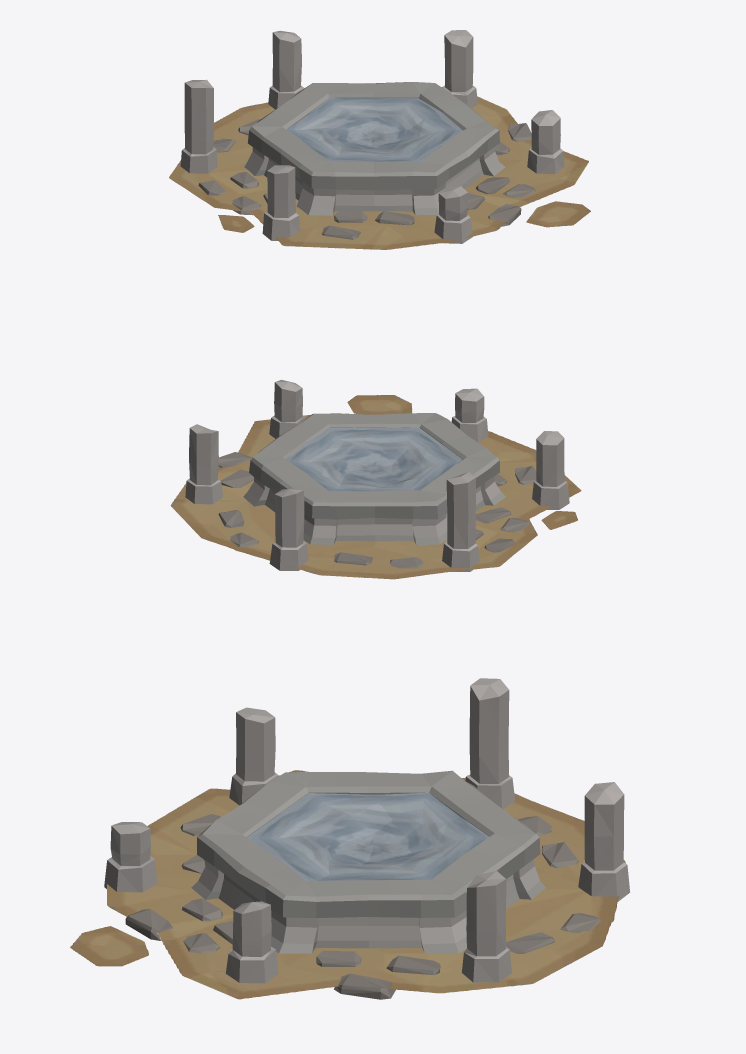
3 views of the same model, one above another, from view 1: azimuth 30°, elevation 25°; view 2: azimuth 150°, elevation 25°; view 3: azimuth 270°, elevation 25° (orthographic). The views are drawn at different scales.
Parts seen in each view (by area): view 1: alluringPool, groundDecal, meshWater; view 2: alluringPool, groundDecal, meshWater; view 3: alluringPool, groundDecal, meshWater.
Part boxes in pixels (bbox=[...]): alluringPool: bbox=[180, 30, 564, 243]; groundDecal: bbox=[169, 83, 590, 249]; meshWater: bbox=[286, 97, 463, 162]; alluringPool: bbox=[185, 379, 569, 571]; groundDecal: bbox=[170, 395, 581, 579]; meshWater: bbox=[286, 427, 462, 491]; alluringPool: bbox=[104, 678, 629, 999]; groundDecal: bbox=[70, 770, 625, 999]; meshWater: bbox=[247, 792, 489, 881].
Size of the model in its own units: 4 by 0.7551 by 4.
